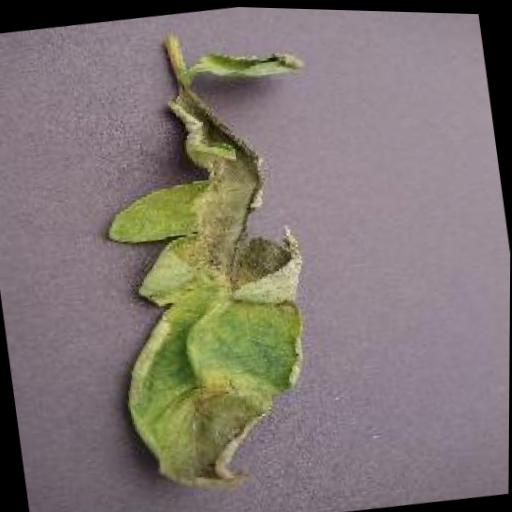Late Blight: (79, 73, 332, 497), (199, 28, 311, 95)
